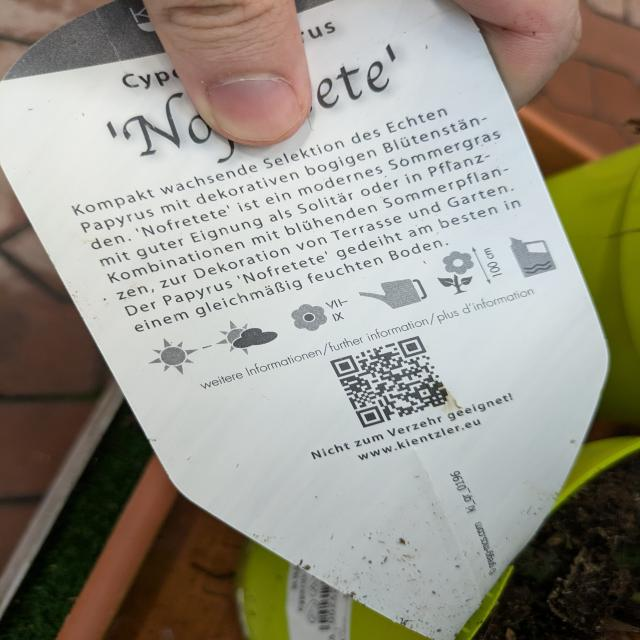halb sonnig schattig: (219, 317, 283, 358)
sonnig: (151, 336, 198, 378)
